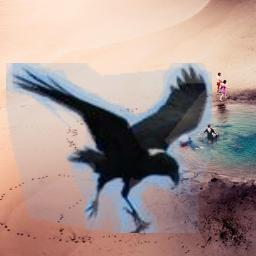Crow: (6, 63, 212, 233)
